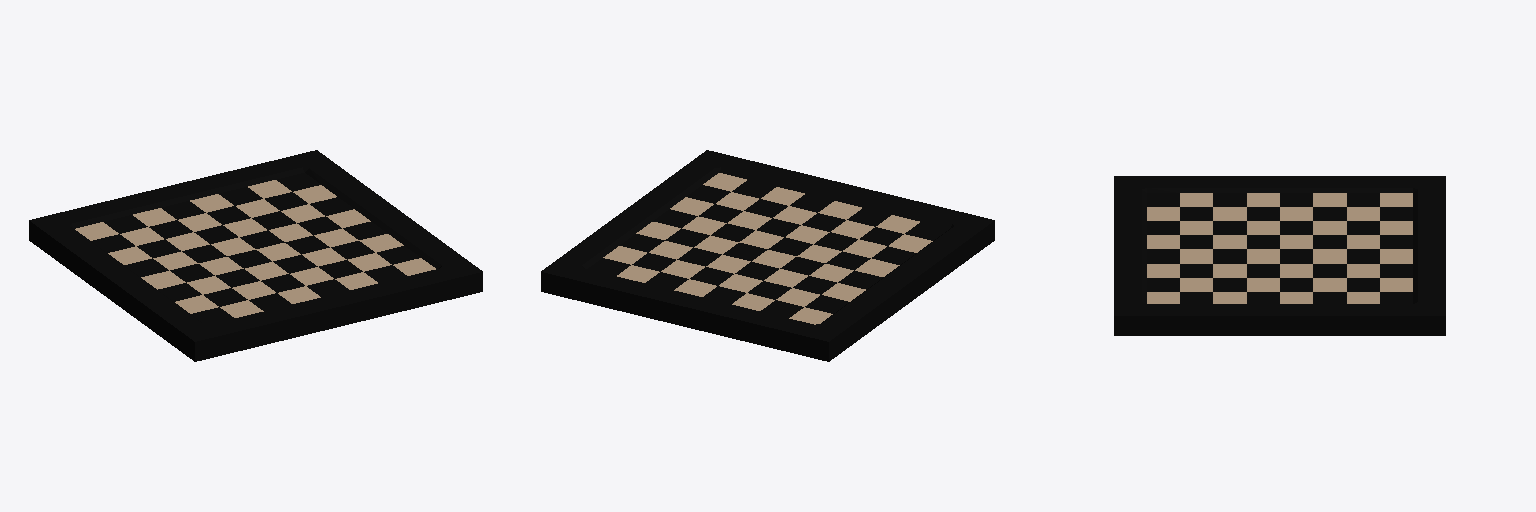
File: board.obj
The picture shows the model from 3 angles: view 1: azimuth 30°, elevation 25°; view 2: azimuth 150°, elevation 25°; view 3: azimuth 270°, elevation 25°; orthographic projection.
Parts seen in each view (by area): view 1: Board; view 2: Board; view 3: Board.
Boxes of the visible parts, x1,y1,x2,y2 form: Board: [29, 150, 482, 361]; Board: [541, 150, 994, 361]; Board: [1114, 176, 1445, 335].
Size of the model in its own units: 10 by 0.6661 by 10.